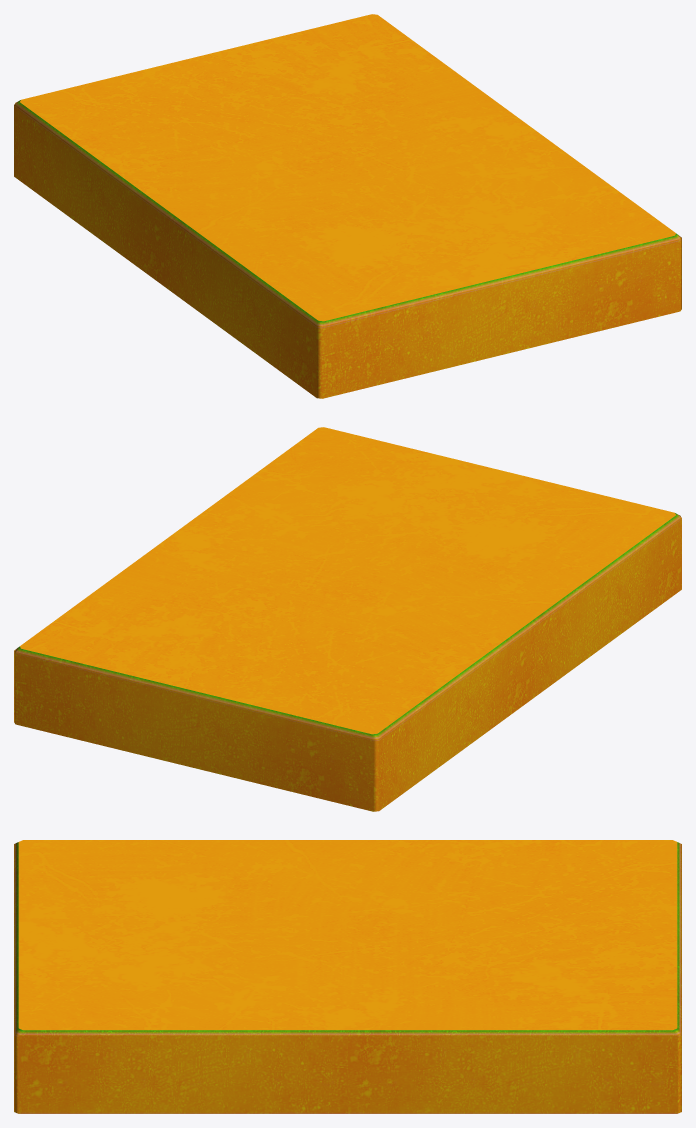
Rendered from ConcreteSlab_01_SM_Low.fbx.
The picture shows the model from 3 angles, top to bottom: view 1: azimuth 30°, elevation 25°; view 2: azimuth 150°, elevation 25°; view 3: azimuth 270°, elevation 25°; orthographic projection. The views are drawn at different scales.
Visible parts, largest first — view 1: ConcreteSlab_Geo; view 2: ConcreteSlab_Geo; view 3: ConcreteSlab_Geo.
Part boxes in pixels (x1,y1,x2,y2): ConcreteSlab_Geo: [14, 14, 681, 398]; ConcreteSlab_Geo: [14, 427, 681, 811]; ConcreteSlab_Geo: [14, 840, 681, 1113].
Size of the model in its own units: 930 by 183 by 1354.
Materials: 2 (2 with a texture image).
